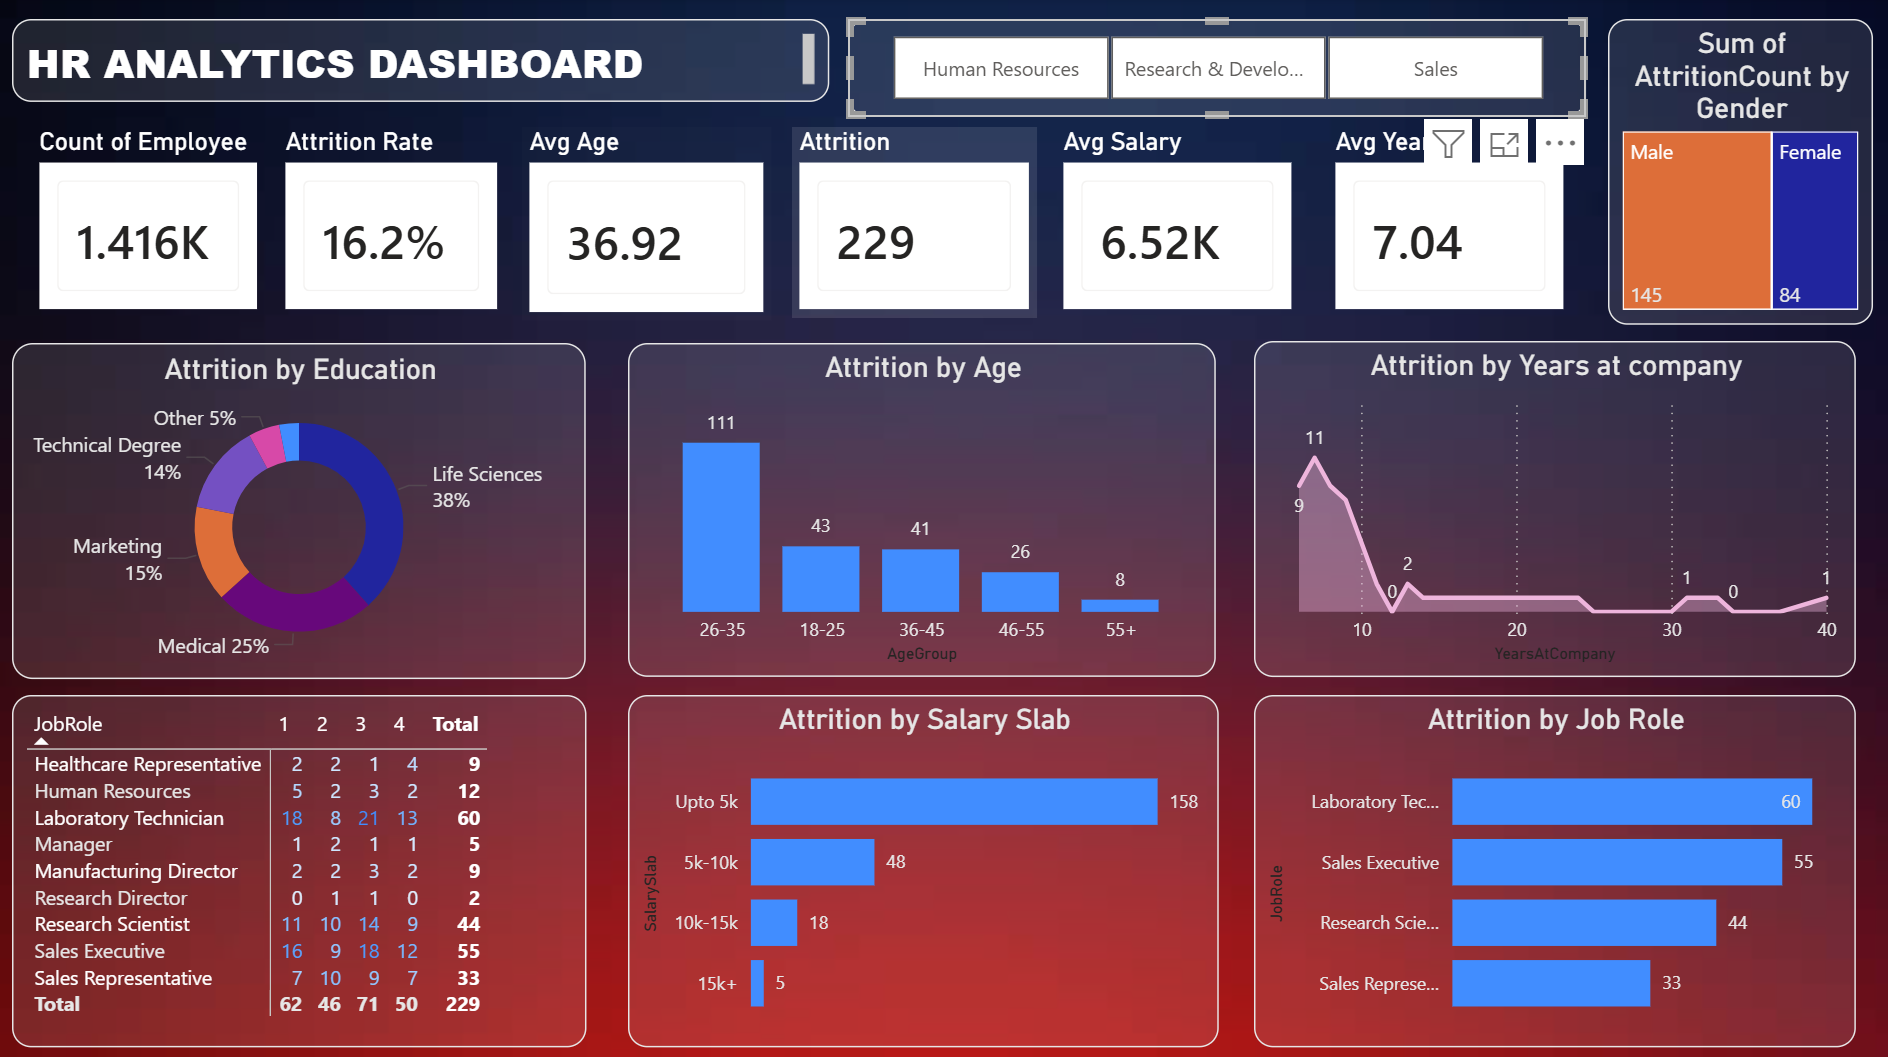

What the dashboard file says about the page in this screenshot:
{"tool":"powerbi","page":{"name":"Page 1","canvas":[1280,720],"ordinal":0},"visuals":[{"type":"cardVisual","title":"Count of Employee","fields":{"Data":["CountNonNull(HR_Analytics.Attrition)"]},"box":[26.9,88.2,157.2,128.8],"z":0},{"type":"cardVisual","title":"Attrition Rate","fields":{"Data":["HR_Analytics.AttritionRate"]},"box":[193.5,88.2,153.4,128.8],"z":1000},{"type":"cardVisual","title":"Avg Age","fields":{"Data":["Avg(HR_Analytics.Age)"]},"box":[357.9,88,168.3,130.4],"z":2000},{"type":"cardVisual","title":"Attrition","fields":{"Data":["Sum(HR_Analytics.AttritionCount)"]},"box":[539.9,88,165.3,128.9],"z":3000},{"type":"cardVisual","title":"Avg Salary","fields":{"Data":["Avg(HR_Analytics.MonthlyIncome)"]},"box":[718,88.2,164.7,128.8],"z":4000},{"type":"cardVisual","title":"Avg Years","fields":{"Data":["Avg(HR_Analytics.YearsAtCompany)"]},"box":[901.7,88.2,164.7,128.8],"z":5000},{"type":"donutChart","title":"Attrition by Education","fields":{"Category":["HR_Analytics.EducationField"],"Y":["Sum(HR_Analytics.AttritionCount)"]},"box":[13.5,233.7,387.7,226.9],"z":6000},{"type":"columnChart","title":"Attrition by Age","fields":{"Category":["HR_Analytics.AgeGroup"],"Y":["Sum(HR_Analytics.AttritionCount)"]},"box":[429.6,233.7,397.1,225.6],"z":7000},{"type":"pivotTable","fields":{"Rows":["HR_Analytics.JobRole"],"Columns":["HR_Analytics.JobSatisfaction"],"Values":["Sum(HR_Analytics.AttritionCount)"]},"box":[13.6,471.7,388.2,238.1],"z":8000},{"type":"barChart","title":"Attrition by Salary Slab","fields":{"Category":["HR_Analytics.SalarySlab"],"Y":["Sum(HR_Analytics.AttritionCount)"]},"box":[429.2,471.7,398.9,238.1],"z":9000},{"type":"barChart","title":"Attrition by Job Role","fields":{"Category":["HR_Analytics.JobRole"],"Y":["Sum(HR_Analytics.AttritionCount)"]},"box":[852.3,471.7,406.4,238.1],"z":10000},{"type":"areaChart","title":"Attrition by Years at company","fields":{"Category":["HR_Analytics.YearsAtCompany"],"Y":["Sum(HR_Analytics.AttritionCount)"]},"box":[852.4,232.3,406.6,226.9],"z":10001},{"type":"treemap","fields":{"Group":["HR_Analytics.Gender"],"Values":["Sum(HR_Analytics.AttritionCount)"]},"box":[1091.9,15.2,179,206.3],"z":10002},{"type":"slicer","fields":{"Values":["HR_Analytics.Department"]},"box":[578.2,14.9,498.5,66.2],"z":10003},{"type":"textbox","box":[13.6,15.2,552,56.1],"z":10004}]}

Visuals, with their boxes in screenshot pixels (x1, y1, x2, y2), scaled from the page's 1280x720 canvas onto the 1888x1057 screenshot:
"Count of Employee" cardVisual: Rect(40, 129, 272, 319)
"Attrition Rate" cardVisual: Rect(285, 129, 512, 319)
"Avg Age" cardVisual: Rect(528, 129, 776, 321)
"Attrition" cardVisual: Rect(796, 129, 1040, 318)
"Avg Salary" cardVisual: Rect(1059, 129, 1302, 319)
"Avg Years" cardVisual: Rect(1330, 129, 1573, 319)
"Attrition by Education" donutChart: Rect(20, 343, 592, 676)
"Attrition by Age" columnChart: Rect(634, 343, 1219, 674)
pivotTable - HR_Analytics.JobRole x HR_Analytics.JobSatisfaction: Rect(20, 692, 593, 1042)
"Attrition by Salary Slab" barChart: Rect(633, 692, 1221, 1042)
"Attrition by Job Role" barChart: Rect(1257, 692, 1857, 1042)
"Attrition by Years at company" areaChart: Rect(1257, 341, 1857, 674)
treemap - HR_Analytics.Gender x Sum(HR_Analytics.AttritionCount): Rect(1611, 22, 1875, 325)
slicer - HR_Analytics.Department: Rect(853, 22, 1588, 119)
textbox: Rect(20, 22, 834, 105)
